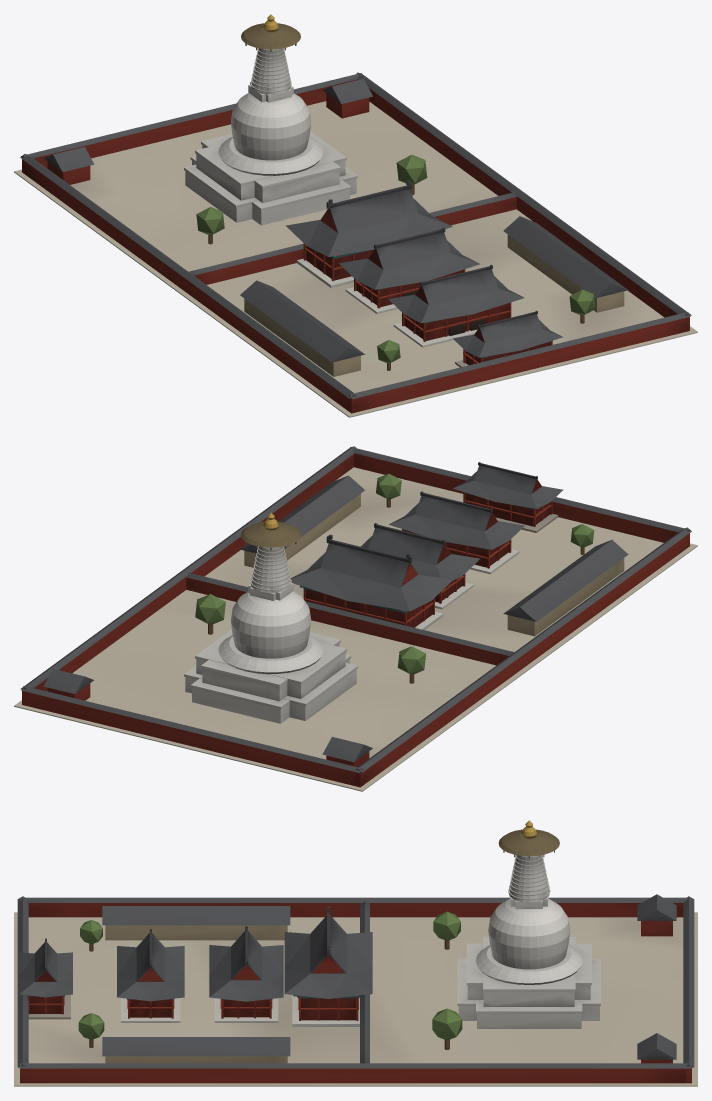
The model's file is miaoying.glb.
The picture shows the model from 3 angles, top to bottom: view 1: azimuth 30°, elevation 25°; view 2: azimuth 150°, elevation 25°; view 3: azimuth 270°, elevation 25°; orthographic projection.
Parts seen in each view (by area): view 1: p0_walls, p1_stupa, p2_trees; view 2: p0_walls, p1_stupa, p2_trees; view 3: p0_walls, p1_stupa, p2_trees.
Boxes of the visible parts, x1,y1,x2,y2 form: p0_walls: (14, 72, 697, 417); p1_stupa: (44, 14, 628, 376); p2_trees: (196, 154, 595, 370); p0_walls: (14, 446, 697, 791); p1_stupa: (43, 475, 628, 766); p2_trees: (195, 462, 594, 683); p0_walls: (14, 896, 697, 1086); p1_stupa: (26, 820, 676, 1063); p2_trees: (19, 906, 462, 1049).
Size of the model in its own units: 90 by 43.57 by 150.
